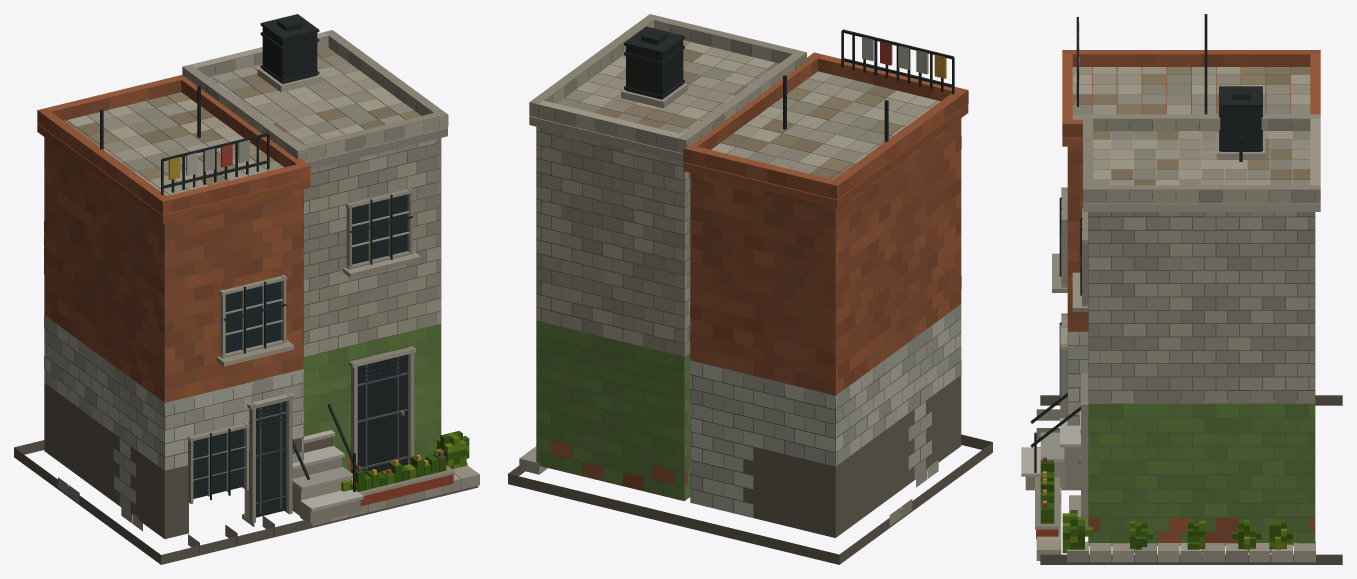
File: SM_StreetFrontage_091.fbx
3 views of the same model, side by side, from view 1: azimuth 30°, elevation 25°; view 2: azimuth 150°, elevation 25°; view 3: azimuth 270°, elevation 25° (orthographic). The views are drawn at different scales.
Parts seen in each view (by area): view 1: SM_StreetFrontage_091; view 2: SM_StreetFrontage_091; view 3: SM_StreetFrontage_091.
Boxes of the visible parts, <box> form: SM_StreetFrontage_091: <box>14,14,479,564</box>; SM_StreetFrontage_091: <box>508,14,992,564</box>; SM_StreetFrontage_091: <box>1021,14,1342,564</box>.
Bounding box in the file's own units: 8 × 6.67 × 9.81.
